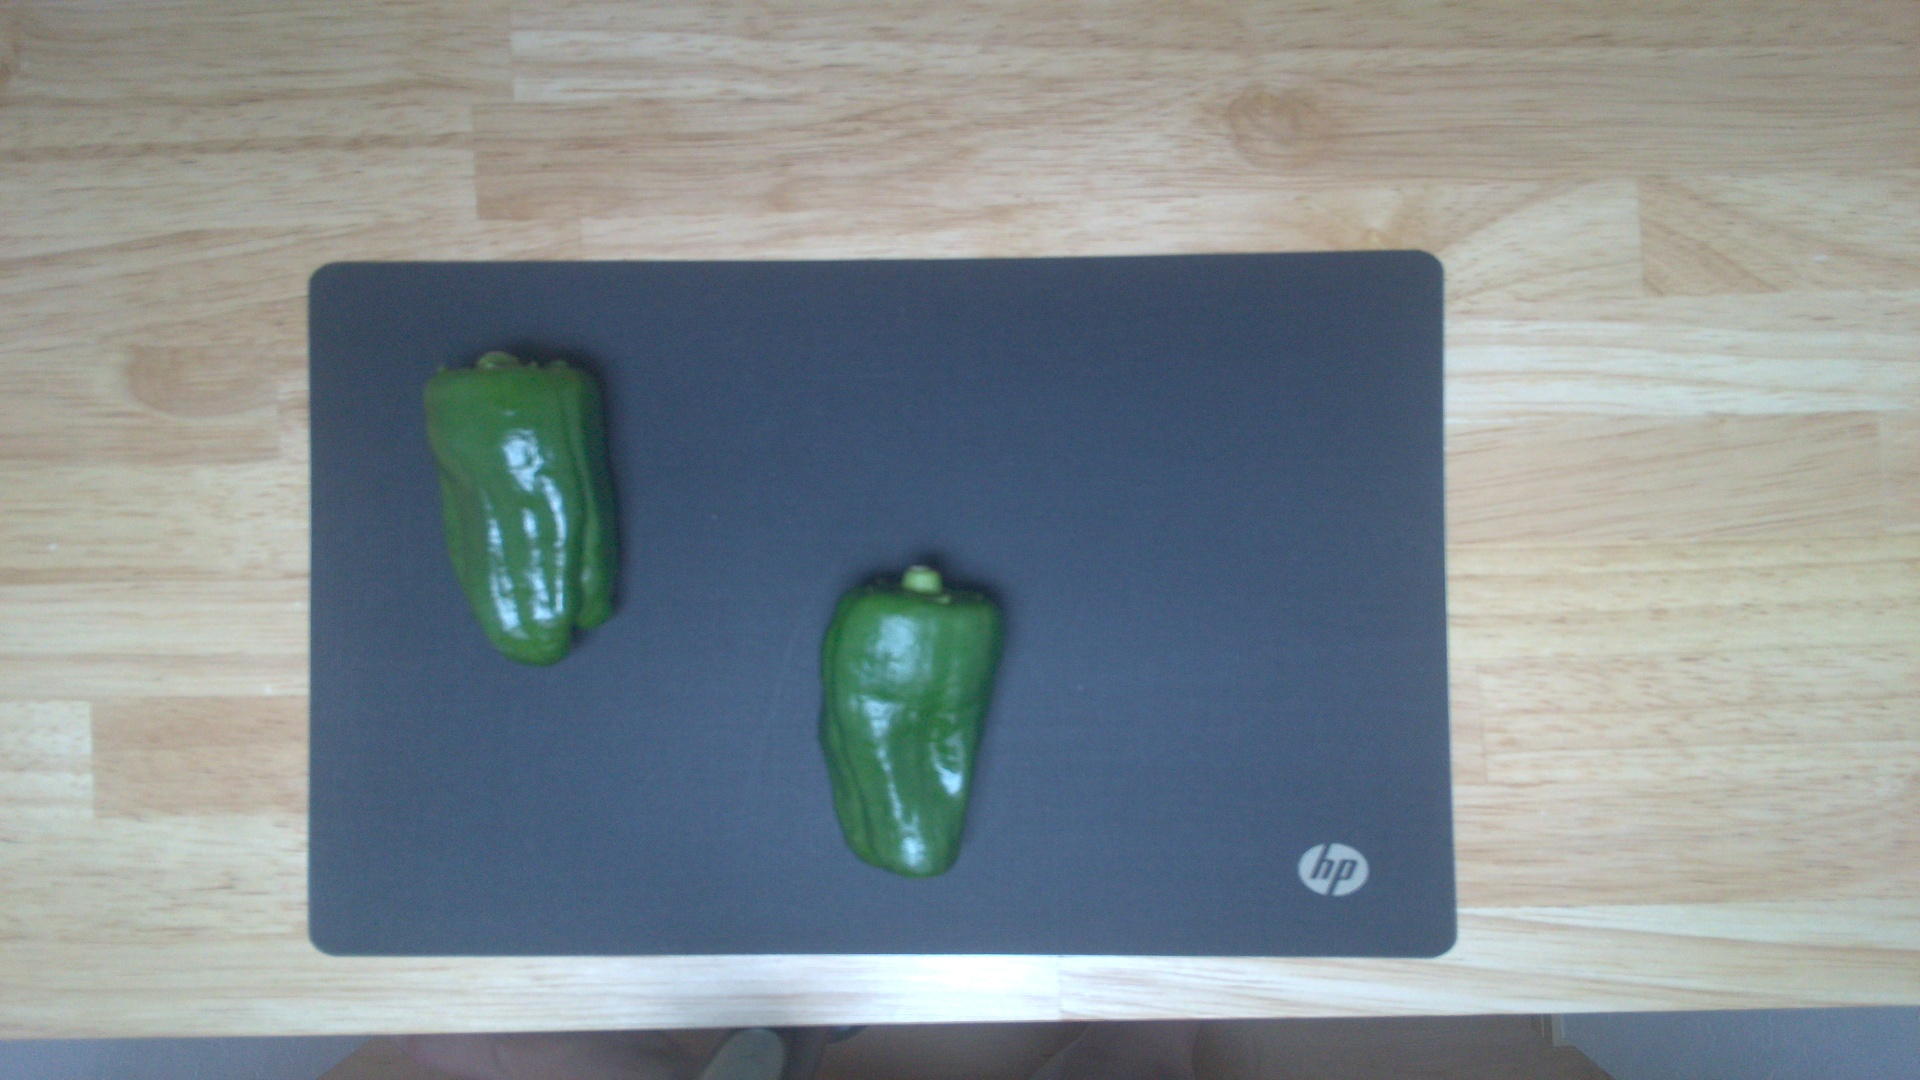Piman: (423, 342, 626, 669), (812, 560, 1011, 876)
